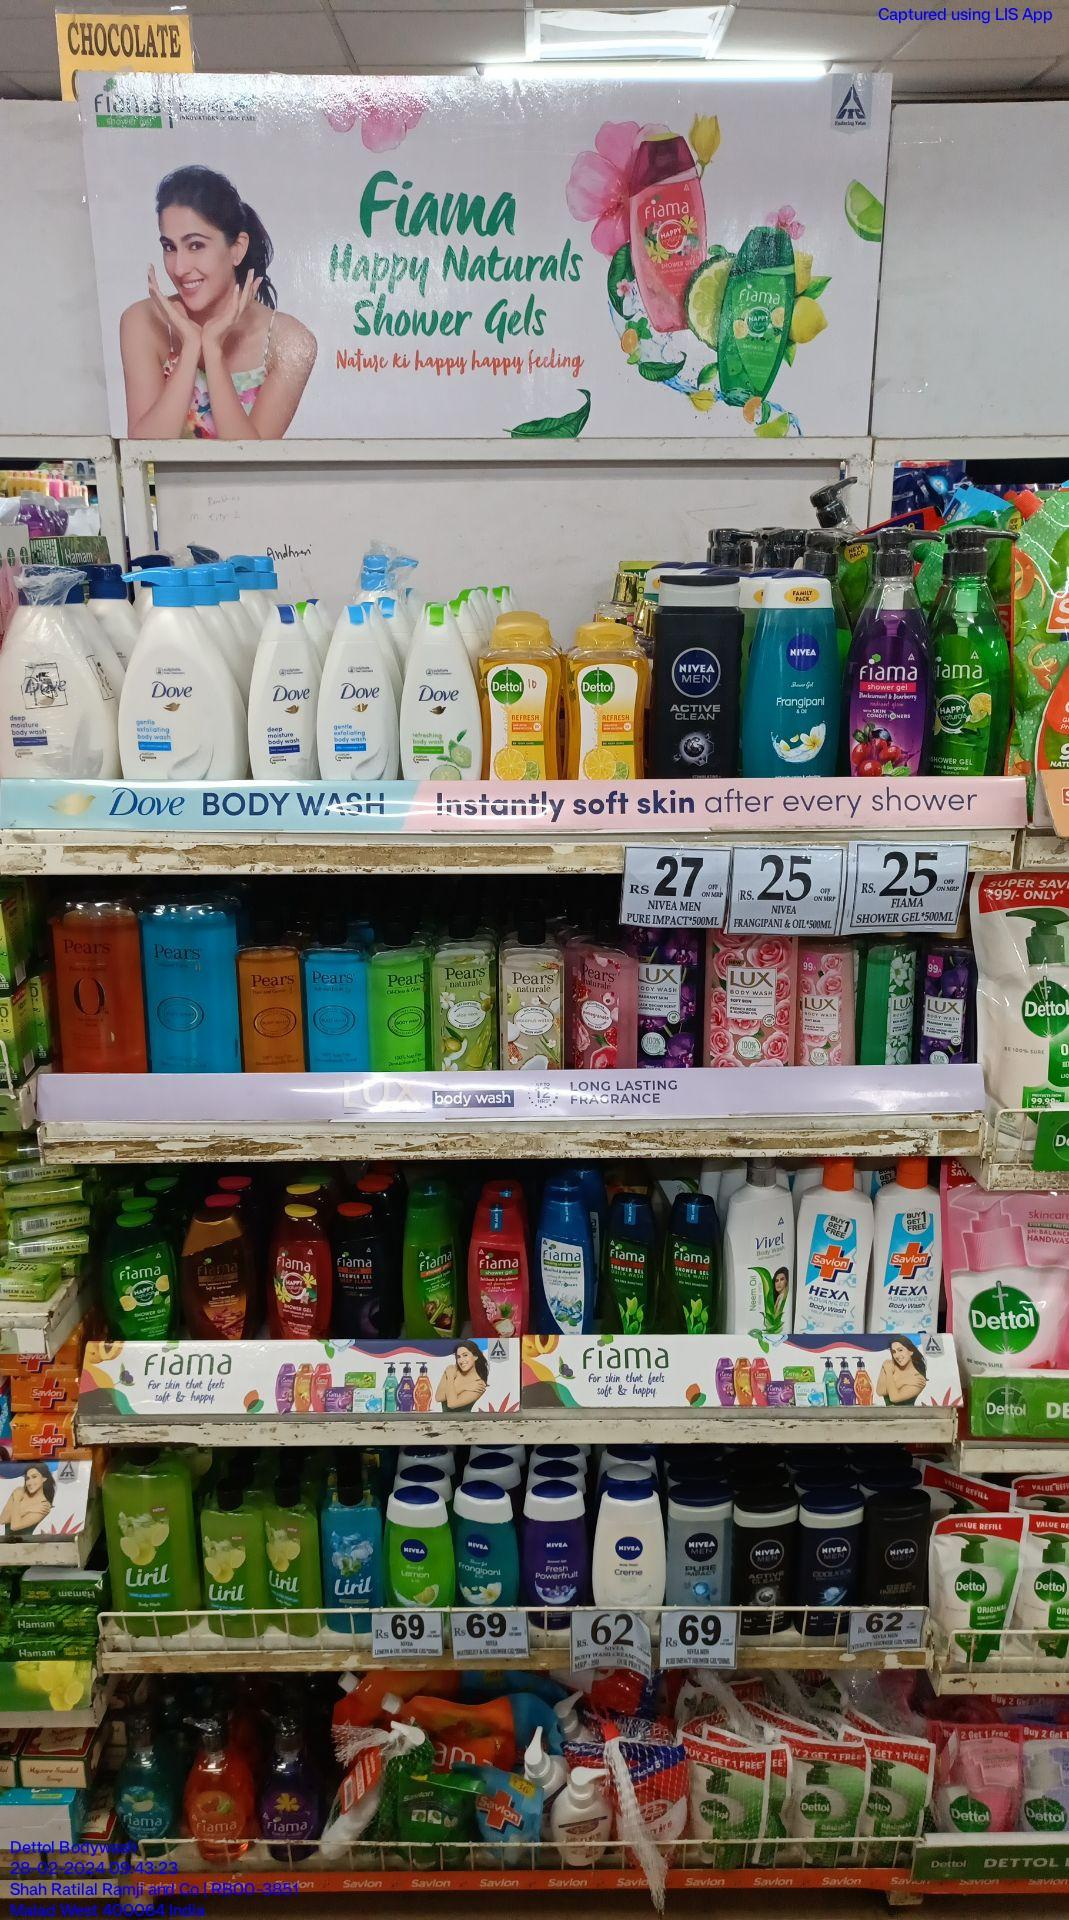Dettol_Bodywash_Refresh: (481, 612, 557, 784), (567, 619, 642, 783)
Dove_Deep_Moisture_Body_Wash_250ML: (250, 604, 315, 780)
Dove_Gentle_Exfoliating_Body_Wash_250ML: (317, 608, 392, 783)
Dove_Refreshing_Body_Wash_250ML: (402, 608, 481, 782)
Fiama_Shower_Gel_Lemongrass_and_Jojoba_250ML: (404, 1180, 461, 1341)
Fiama_Shower_Gel_Patchouli_and_Macadamia_250ML: (469, 1199, 525, 1337)
Liril_Cooling_Mint_Body_Wash_250ML: (321, 1483, 380, 1630)
Liril_Lime_and_Tea_Tree_Oil_Body_Wash_250ML: (199, 1486, 262, 1638), (265, 1484, 315, 1637)
Lux_Black_Orchid_Scent_and_Juniper_Oil_Body_Wash_245ML: (919, 926, 973, 1066)
Lux_Body_Wash_Skin_Detox_Freesia_Scent_and_Alove_Vera_245ML: (865, 929, 916, 1066)
Nivea_Creme_Soft_Body_Wash_250ML: (594, 1467, 669, 1613)
Nivea_Shower_Gel_Frangipani_and_Oil_250ML: (746, 572, 840, 784), (454, 1491, 517, 1609)
Nivea_Shower_Gel_Fresh_Powerfruit_250ML: (523, 1488, 582, 1629)
Nivea_Shower_Gel_Lemon_and_Oil_250ML: (384, 1491, 445, 1615)
Pears_Naturale_Aloe_Vera_Body_Wash_250ML: (432, 913, 498, 1073)
Pears_Pure_Glycerin_and_Lemon_Flower_Extracts_Body_Wash_250ML: (371, 917, 429, 1071)
Pears_Pure_Glycerin_and_Mint_Extracts_Body_Wash_250ML: (304, 917, 369, 1073)
